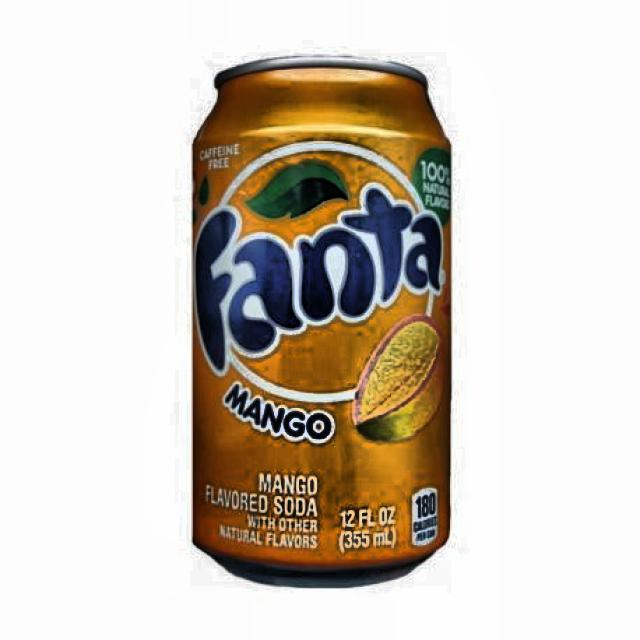Cans: (193, 66, 452, 592)
